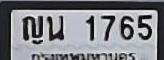1: (85, 14, 93, 40)
5: (137, 14, 151, 39)
6: (118, 15, 133, 39)
7: (100, 14, 114, 40)
A13: (21, 14, 42, 40)
A25: (46, 14, 63, 40)
